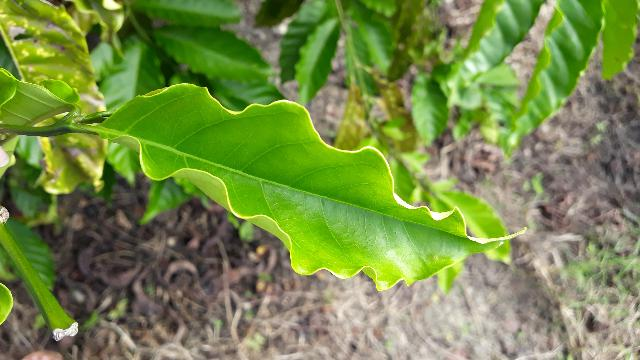healthy: (116, 70, 552, 276)
